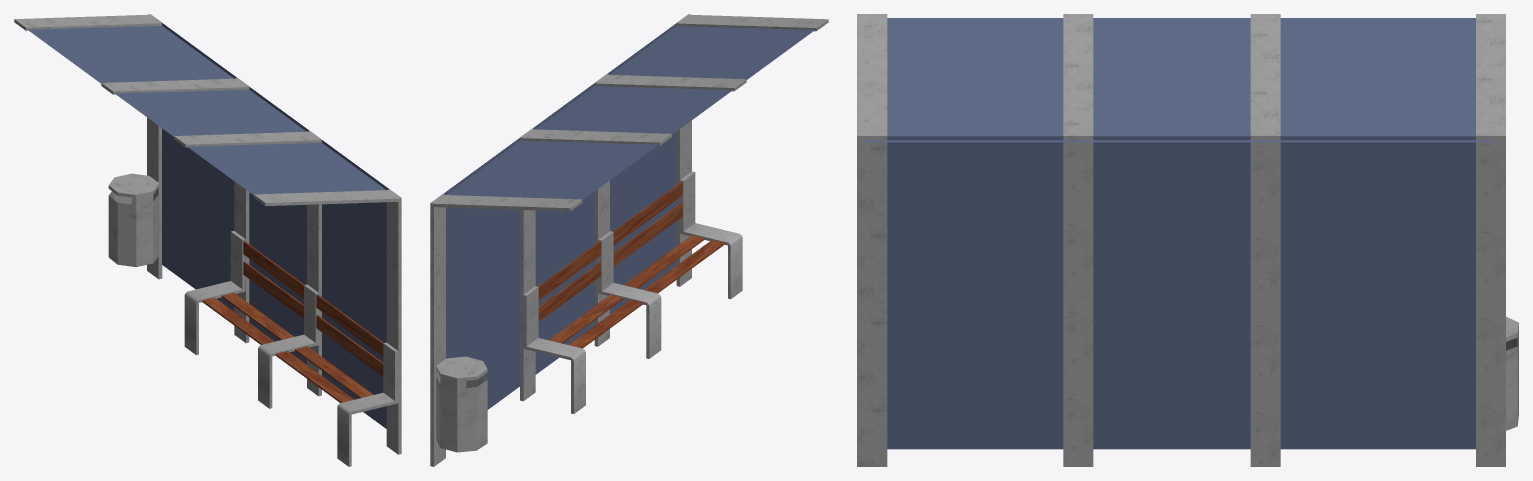
Rendered from bus_stop.fbx.
3 views of the same model, side by side, from view 1: azimuth 30°, elevation 25°; view 2: azimuth 150°, elevation 25°; view 3: azimuth 270°, elevation 25° (orthographic). The views are drawn at different scales.
Parts seen in each view (by area): view 1: Bus_stop; view 2: Bus_stop; view 3: Bus_stop.
Boxes of the visible parts, x1,y1,x2,y2 form: Bus_stop: (14, 14, 401, 466); Bus_stop: (430, 14, 828, 466); Bus_stop: (857, 14, 1518, 466).
Size of the model in its own units: 52.04 by 102 by 167.
Materials: 1 (1 with a texture image).
